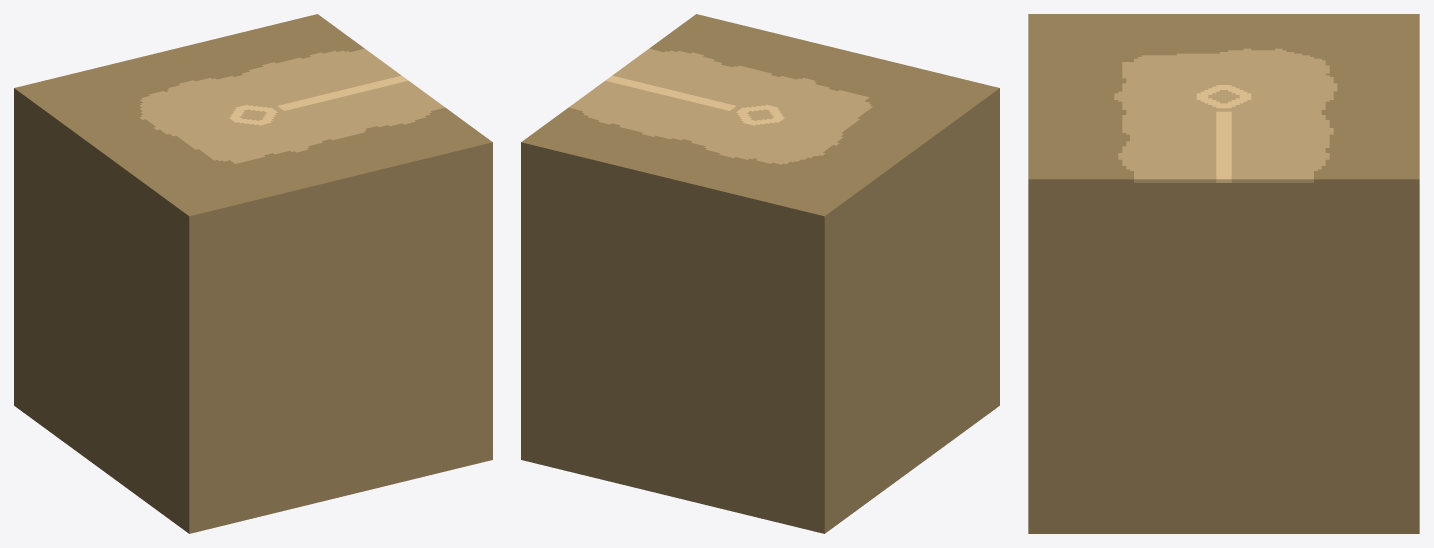
File: floor1.obj
3 renders of one model, left to right at view 1: azimuth 30°, elevation 25°; view 2: azimuth 150°, elevation 25°; view 3: azimuth 270°, elevation 25°, orthographic. The views are drawn at different scales.
Parts seen in each view (by area): view 1: floor1; view 2: floor1; view 3: floor1.
Boxes of the visible parts, x1,y1,x2,y2 form: floor1: [14, 14, 492, 533]; floor1: [521, 14, 999, 533]; floor1: [1028, 14, 1419, 533].
Bounding box in the file's own units: 100 × 100 × 100.
Materials: 1 (1 with a texture image).
